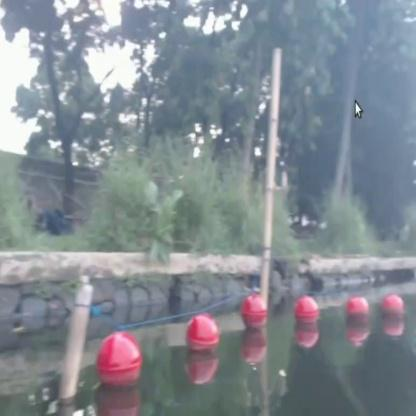red_buoy: (96, 332, 142, 386), (186, 316, 218, 361), (242, 297, 267, 332), (294, 297, 318, 331), (342, 295, 368, 326), (382, 292, 404, 324)
